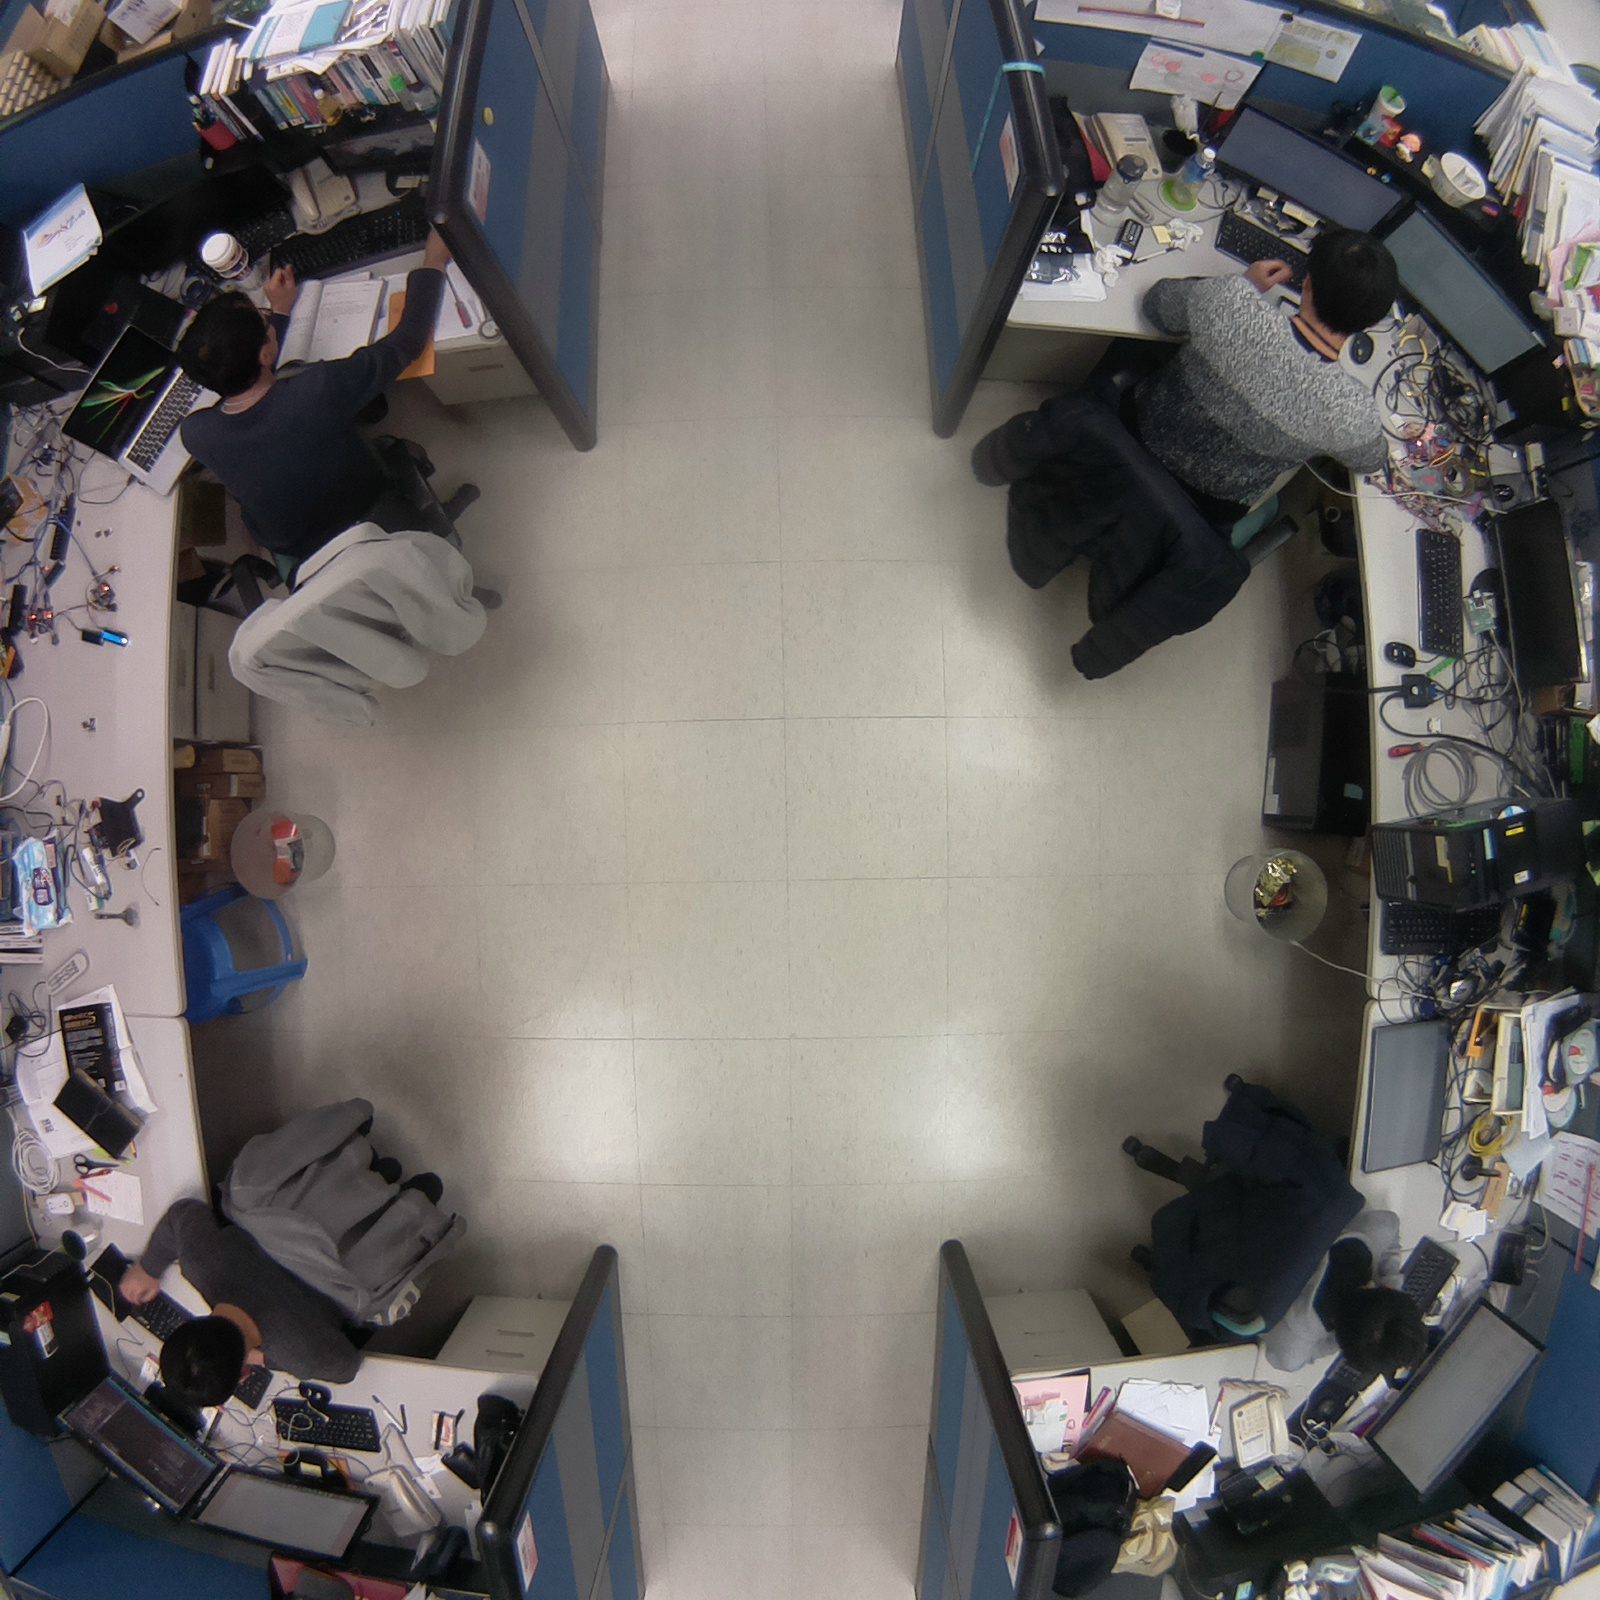sitting: (951, 215, 1451, 699), (157, 210, 519, 747), (108, 1080, 492, 1423), (1081, 1055, 1453, 1404)
